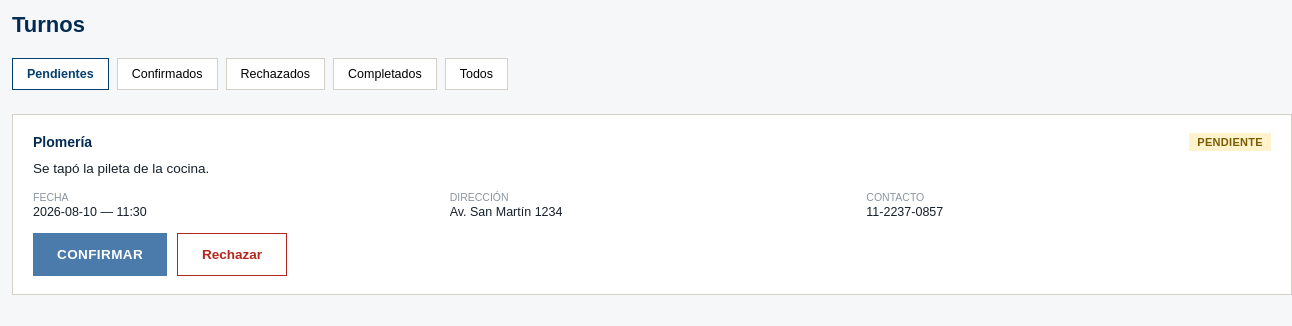
Scenario: TurnosPage › muestra el error si la confirmación es rechazada por RLS
This screenshot has width=1292, height=326.
Expected: the text "Plomería" is shown, x1=33 y1=134 x2=92 y2=150
Click the button "Confirmar" at (100, 255), box x1=33 y1=233 x2=167 y2=276
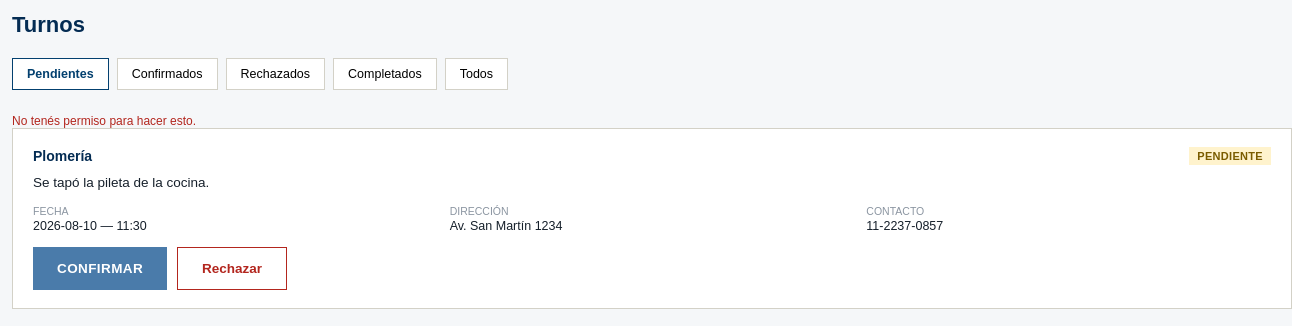
Now the text "No tenés permiso para hacer esto." is shown, box x1=12 y1=114 x2=196 y2=128
